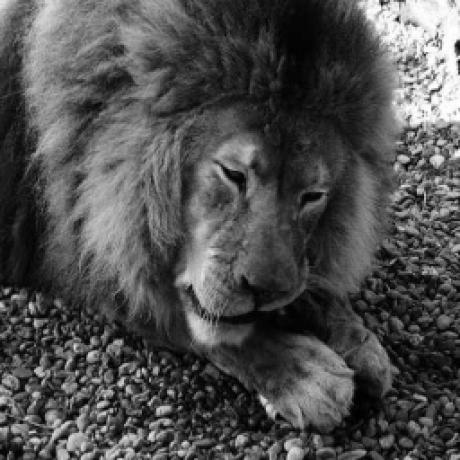Lion: (0, 0, 401, 430)
